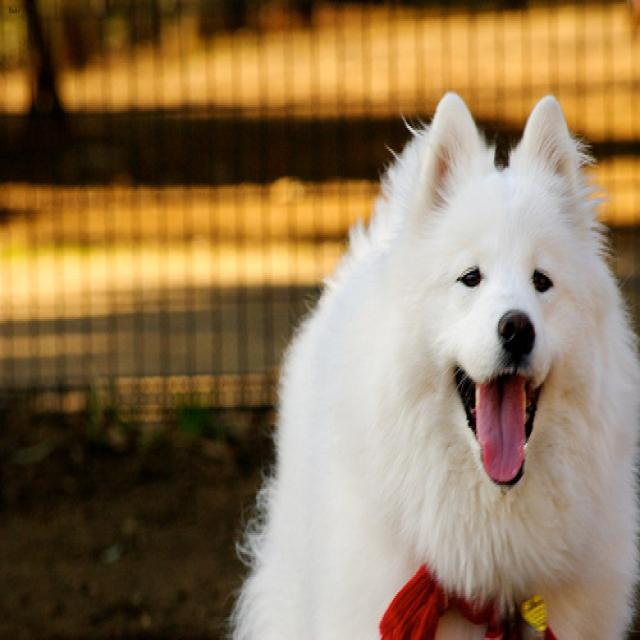dog-samoyed: (223, 78, 637, 636)
